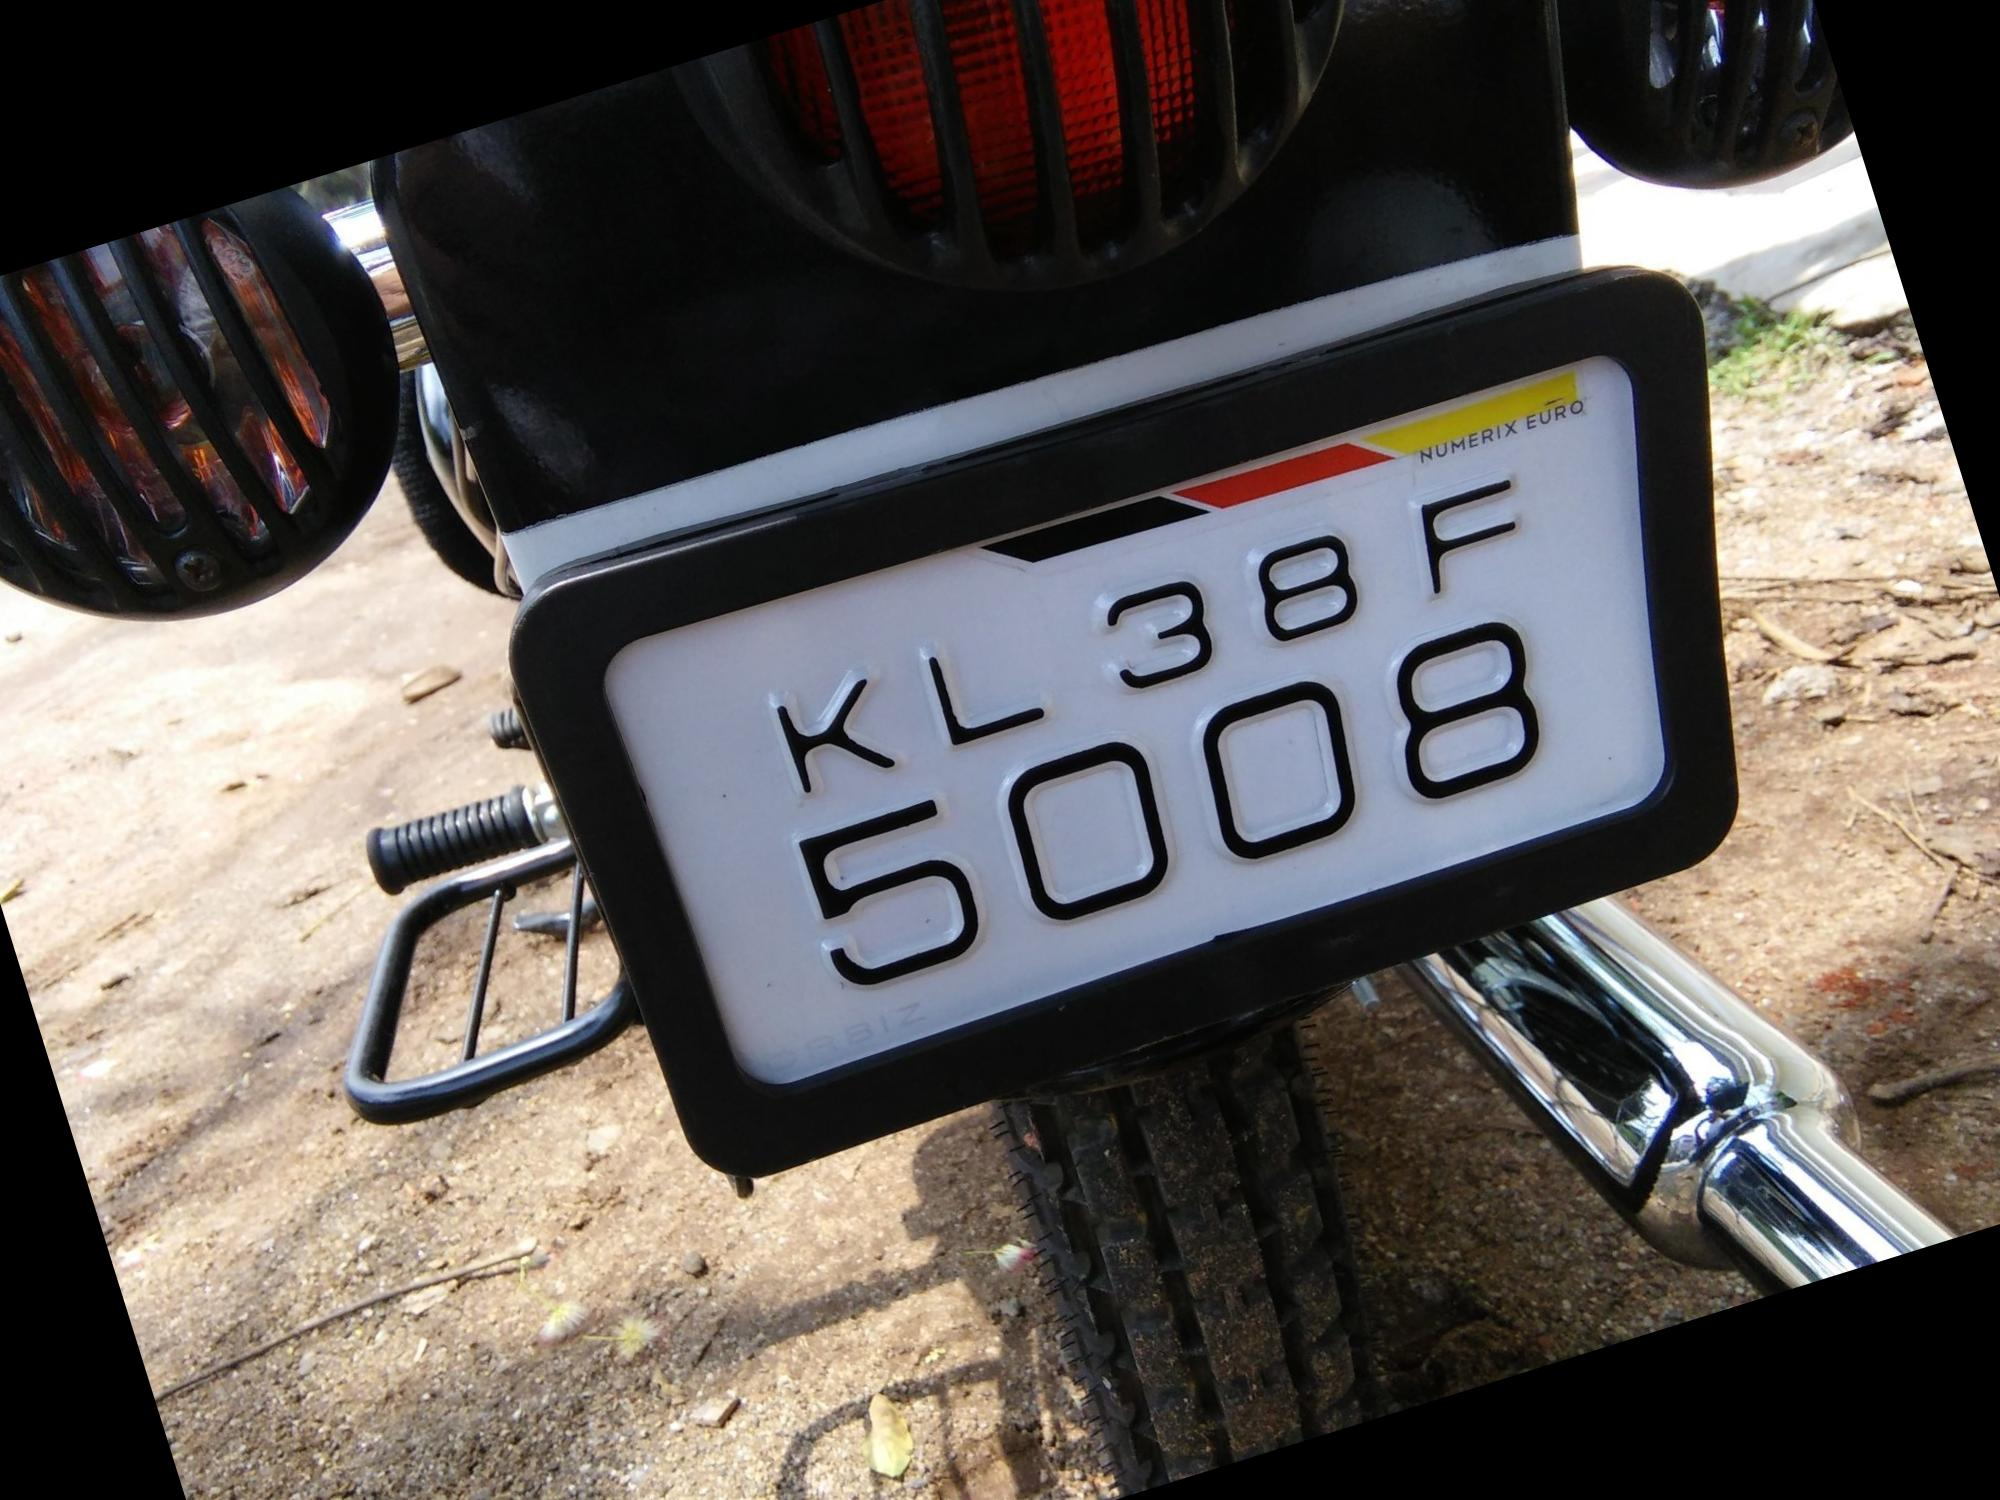plate: (483, 233, 1809, 1196)
